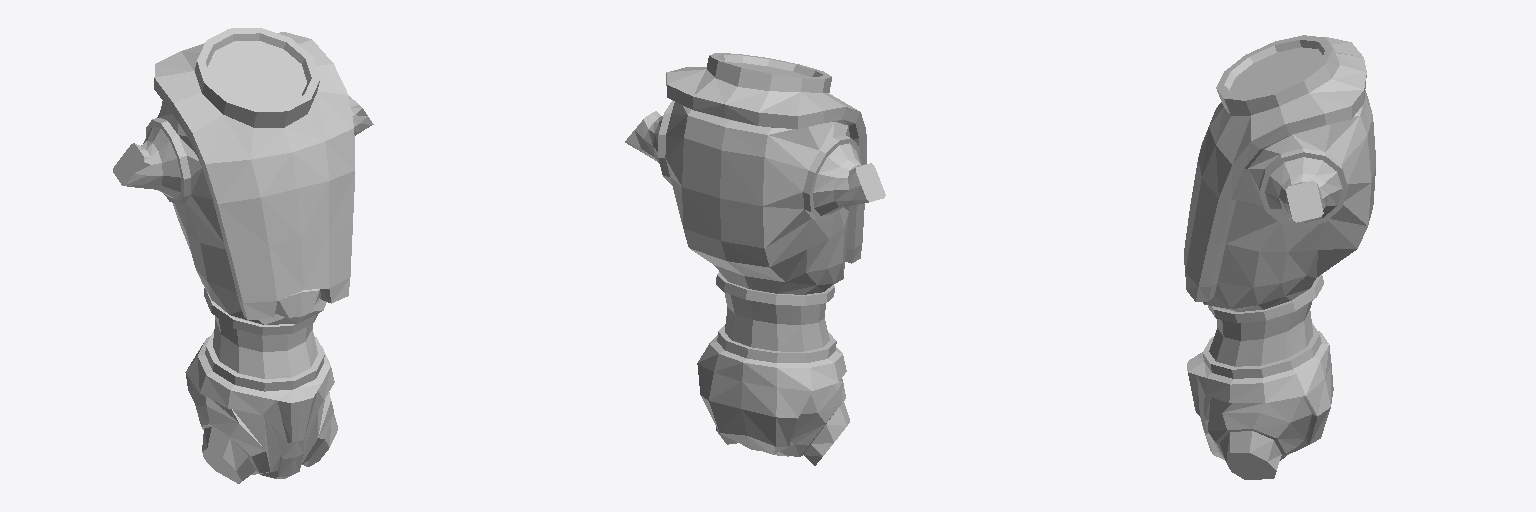
Rendered from RobotBody.obj.
3 renders of one model, left to right at view 1: azimuth 30°, elevation 25°; view 2: azimuth 150°, elevation 25°; view 3: azimuth 270°, elevation 25°, orthographic.
Visible parts, largest first — view 1: RobotBody; view 2: RobotBody; view 3: RobotBody.
Part boxes in pixels (left/top/right/bottom): RobotBody: left=113, top=28, right=373, bottom=483; RobotBody: left=625, top=53, right=885, bottom=465; RobotBody: left=1184, top=35, right=1375, bottom=479.
Size of the model in its own units: 0.4581 by 0.7263 by 0.3052.